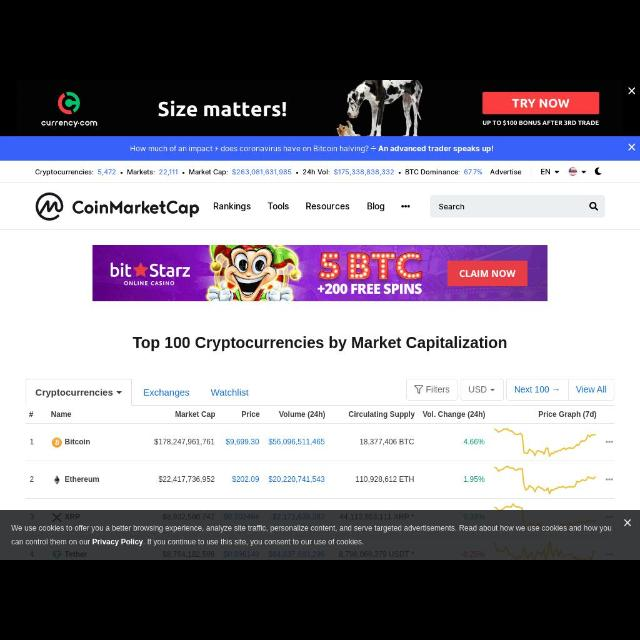icon: (604, 436, 614, 446), (588, 202, 600, 210), (628, 142, 636, 152), (628, 86, 636, 95), (594, 167, 602, 176), (624, 518, 632, 526), (400, 204, 410, 210), (116, 390, 124, 396), (553, 388, 561, 394), (606, 476, 612, 484), (582, 168, 586, 174), (490, 388, 496, 392), (554, 170, 558, 172)
iframe: (95, 244, 548, 300)
image: (335, 81, 423, 137), (492, 424, 598, 460), (494, 460, 600, 496), (34, 192, 64, 220), (56, 90, 82, 114), (568, 166, 578, 178), (52, 438, 62, 448), (54, 475, 60, 485)
input: (430, 194, 604, 216)
link: (266, 436, 326, 446), (144, 387, 190, 398), (224, 434, 260, 448), (268, 476, 326, 484), (210, 388, 250, 399), (576, 384, 608, 396), (462, 474, 488, 486), (230, 476, 260, 484), (463, 437, 485, 447)
multitab: (31, 160, 532, 180), (206, 197, 394, 217)
spinner: (27, 380, 132, 402), (464, 381, 504, 399), (535, 162, 565, 180)
text: (10, 524, 614, 548), (132, 334, 508, 356), (132, 144, 496, 156), (158, 98, 288, 120), (72, 198, 200, 220), (190, 166, 292, 178), (482, 118, 600, 128), (407, 378, 458, 398), (304, 166, 394, 177), (404, 166, 482, 178), (36, 168, 119, 178), (348, 411, 416, 422), (354, 472, 416, 484), (157, 473, 217, 485), (153, 437, 215, 448), (33, 387, 113, 395), (422, 410, 484, 420), (128, 166, 178, 178), (538, 410, 598, 420), (278, 410, 326, 420), (304, 202, 350, 212), (512, 384, 550, 396), (42, 120, 98, 128), (173, 410, 217, 420), (360, 438, 414, 446), (212, 202, 252, 212), (490, 168, 522, 180), (64, 476, 100, 484), (468, 382, 488, 396), (266, 201, 290, 211), (366, 201, 386, 213), (48, 409, 74, 418), (240, 408, 262, 418), (438, 202, 464, 210), (64, 438, 90, 446), (540, 168, 550, 176), (27, 438, 35, 447), (29, 472, 35, 483), (28, 410, 36, 418)
textbutton: (484, 91, 598, 113)
